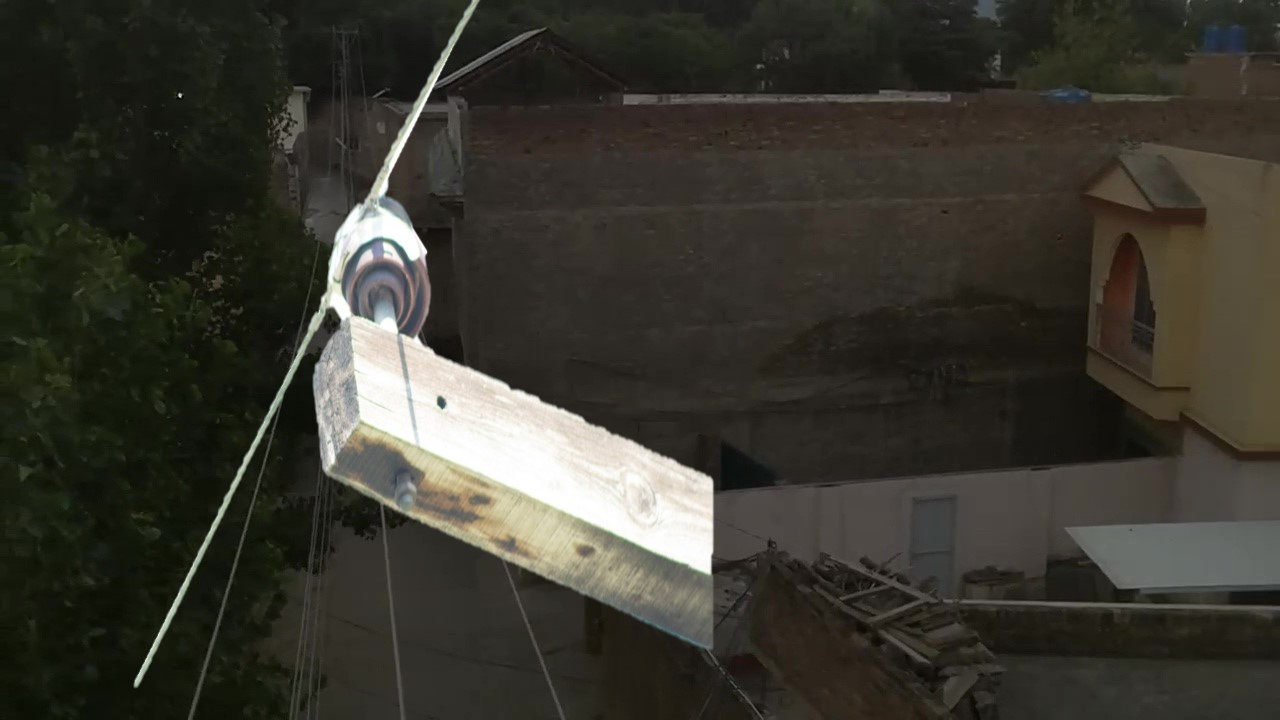defect_pin: (318, 188, 444, 330)
